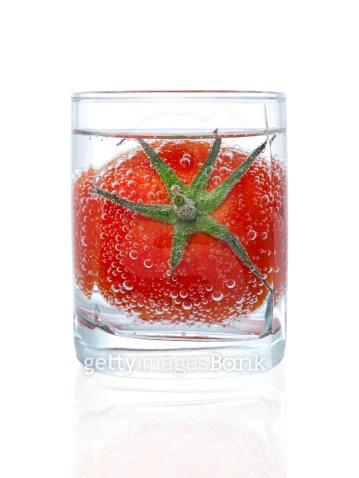glass of water: (67, 80, 292, 378)
